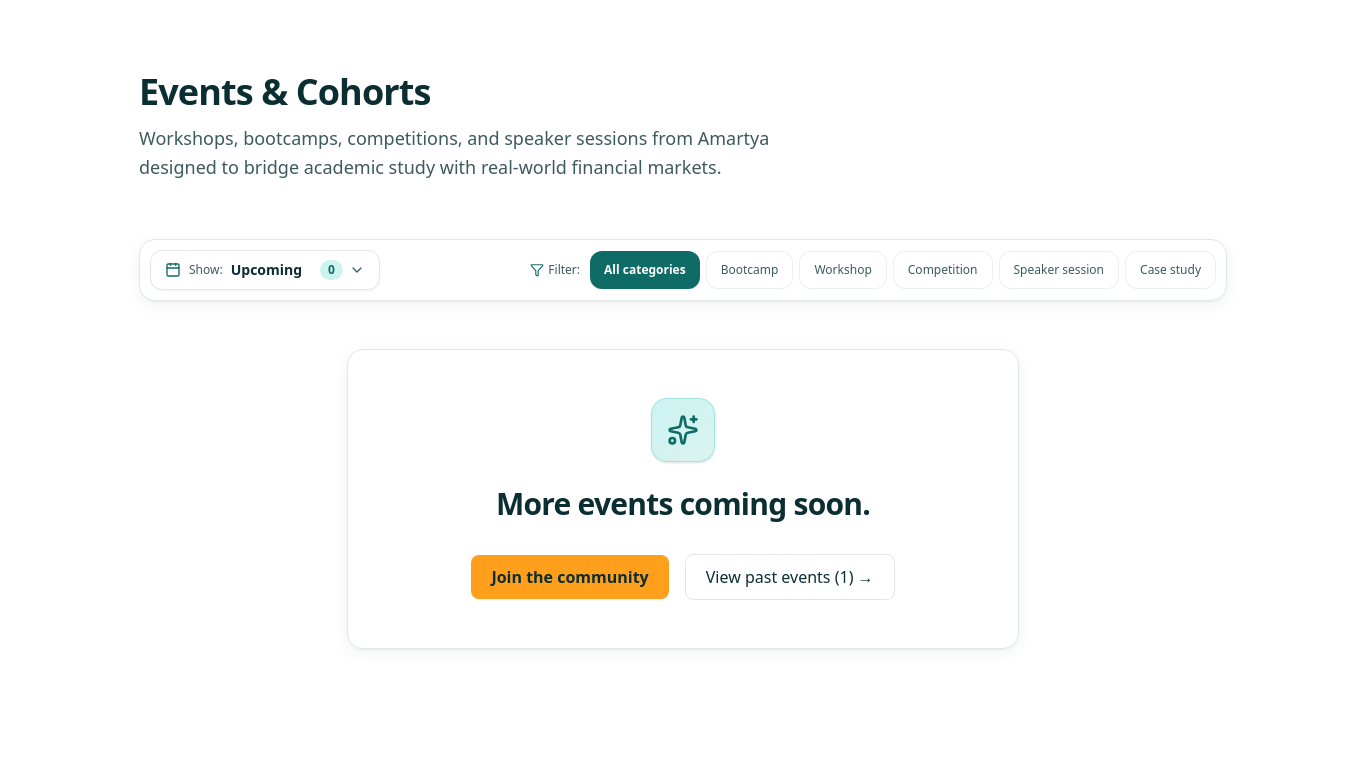
EventsPage › displays Winter Finance Bootcamp when Past timeframe is selected from dropdown
The image size is (1366, 768).
# Open dropdown
Click the button "Show: Upcoming 0" at (265, 270), box [150,250,380,290]
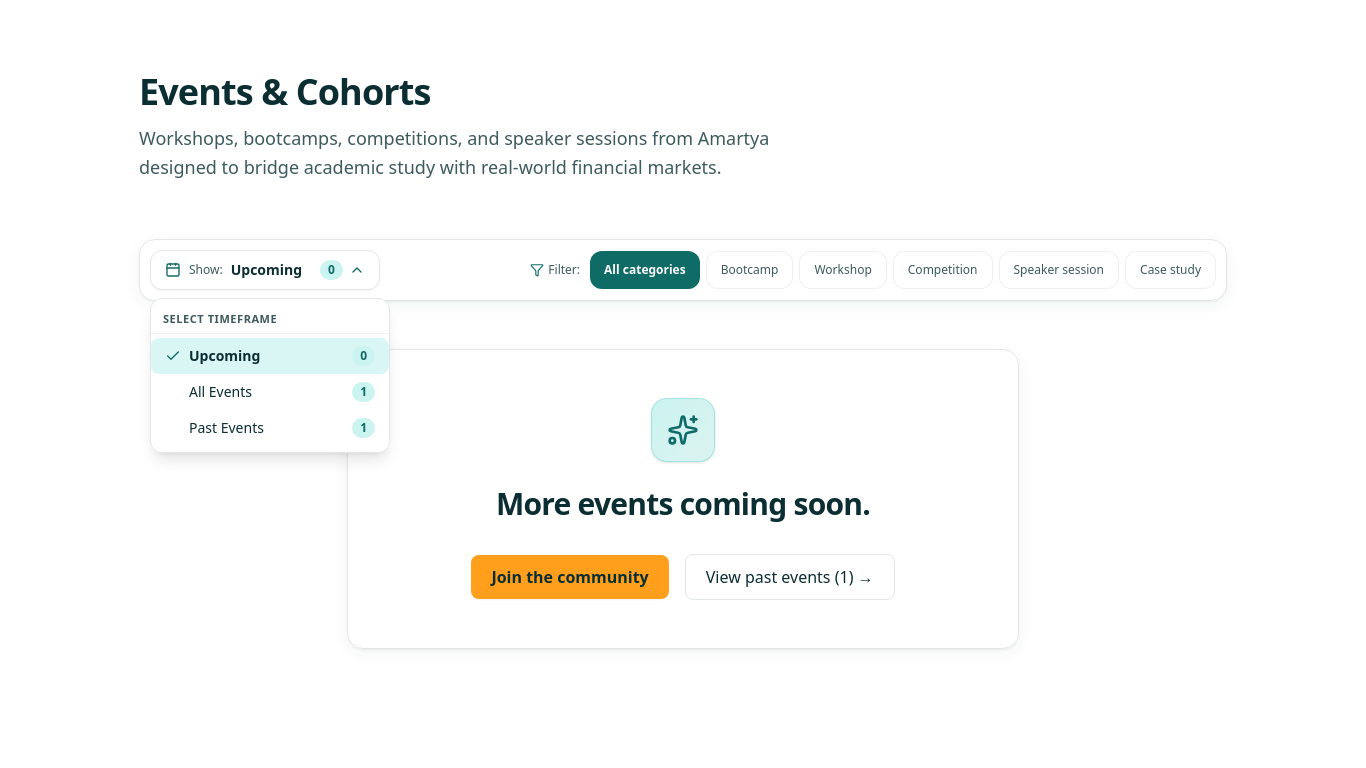
# Select Past option
Click the option "Past Events 1" at (270, 428), box [151,410,389,446]
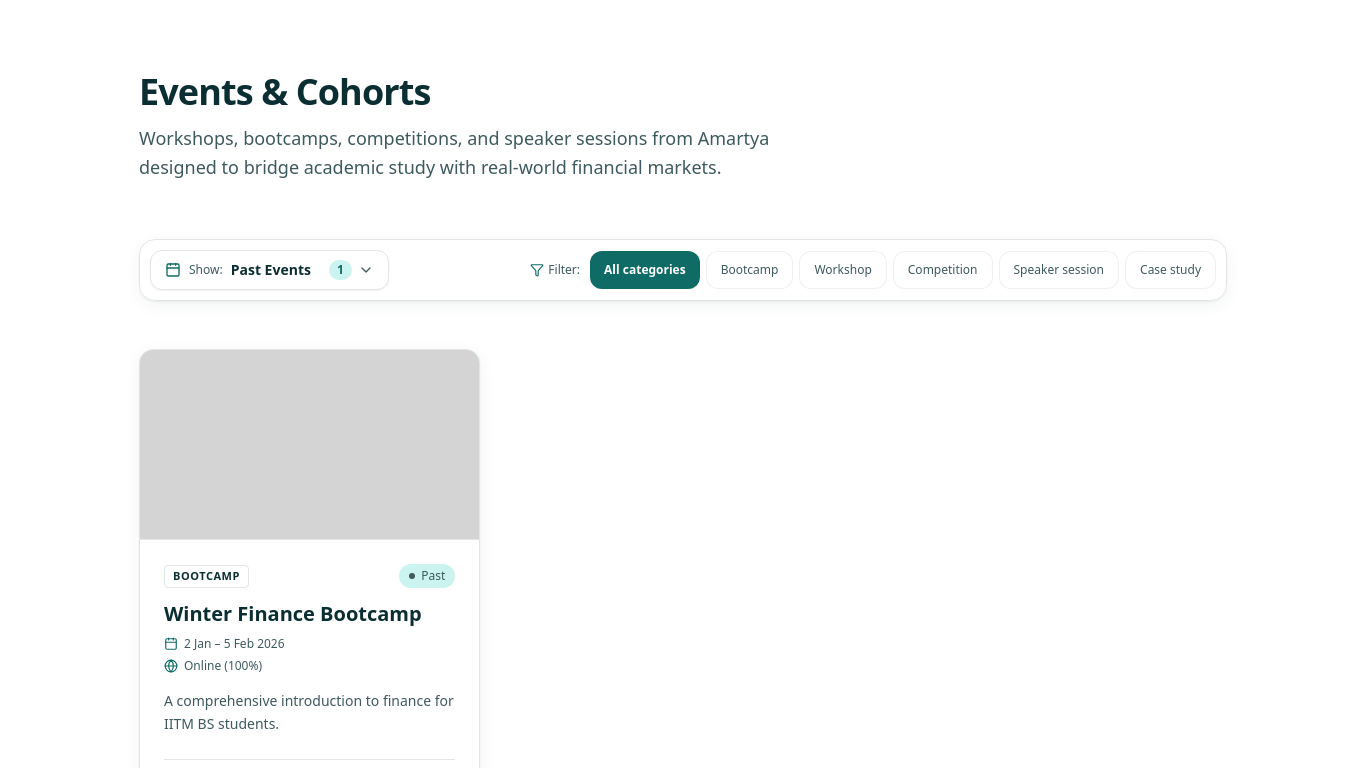
Expected: the heading "Winter Finance Bootcamp" is shown, [164,600,455,628]
Expected: the text "A comprehensive introduction to finance for IITM BS students" is shown, [164,691,454,733]
Expected: the text "2 Jan – 5 Feb 2026" is shown, [184,636,285,652]
